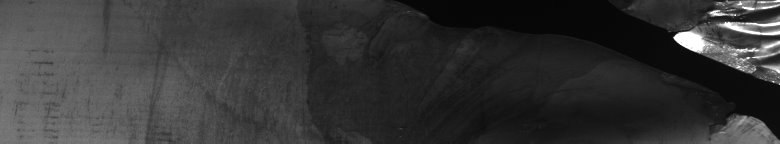ke: (622, 0, 758, 144)
